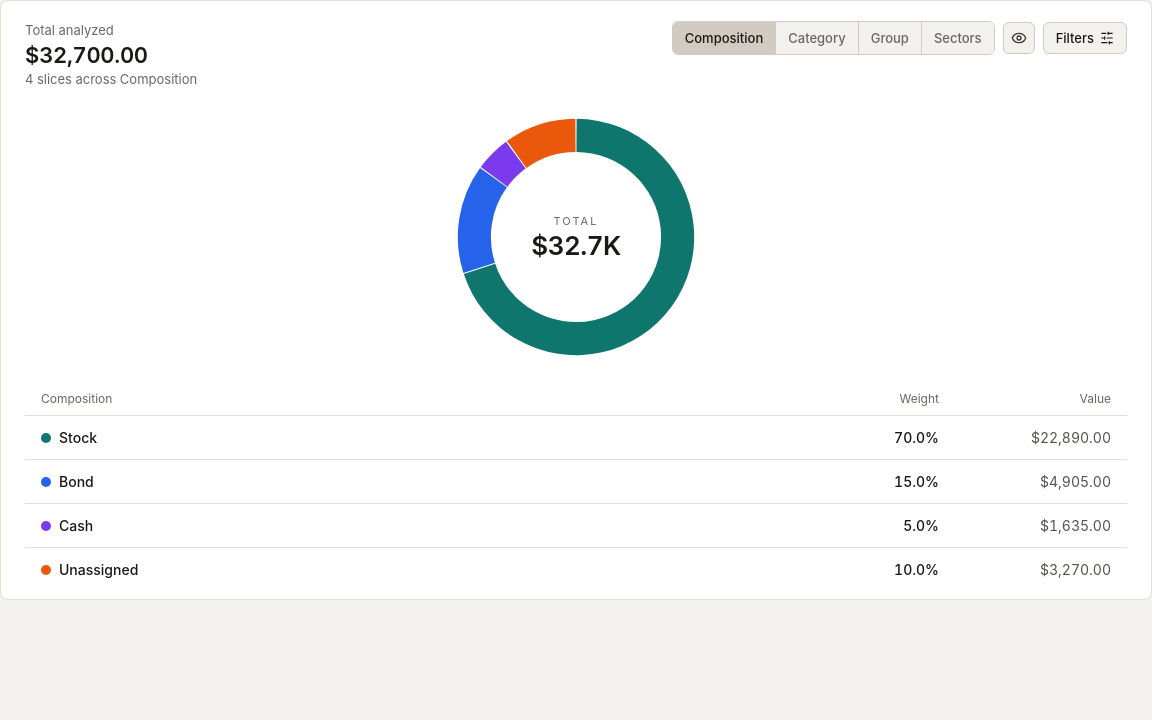
Test: PortfolioCard › clears the selection and collapses when the selected slice is clicked again
Click the button "Stock 70.0% $22,890.00" at (78, 437), box [25,415,1127,459]
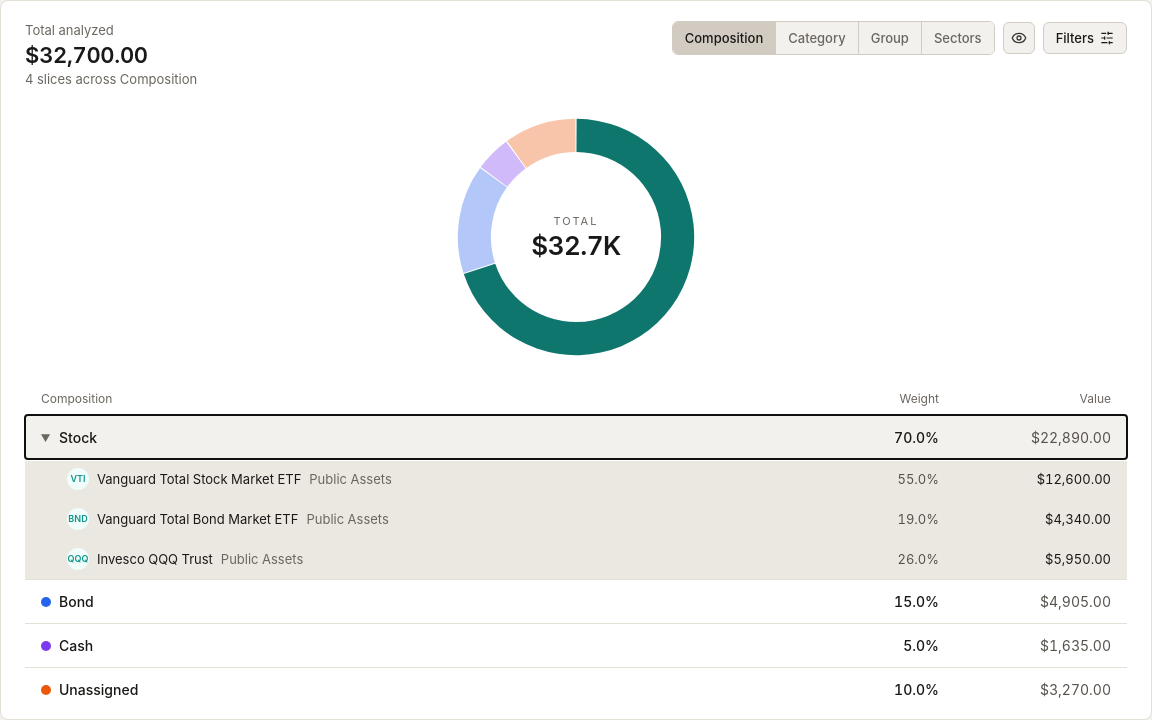
Check: the button "▶ Stock 70.0% $22,890.00" is expanded
Click the button "▶ Stock 70.0% $22,890.00" at (78, 437), box [25,415,1127,459]
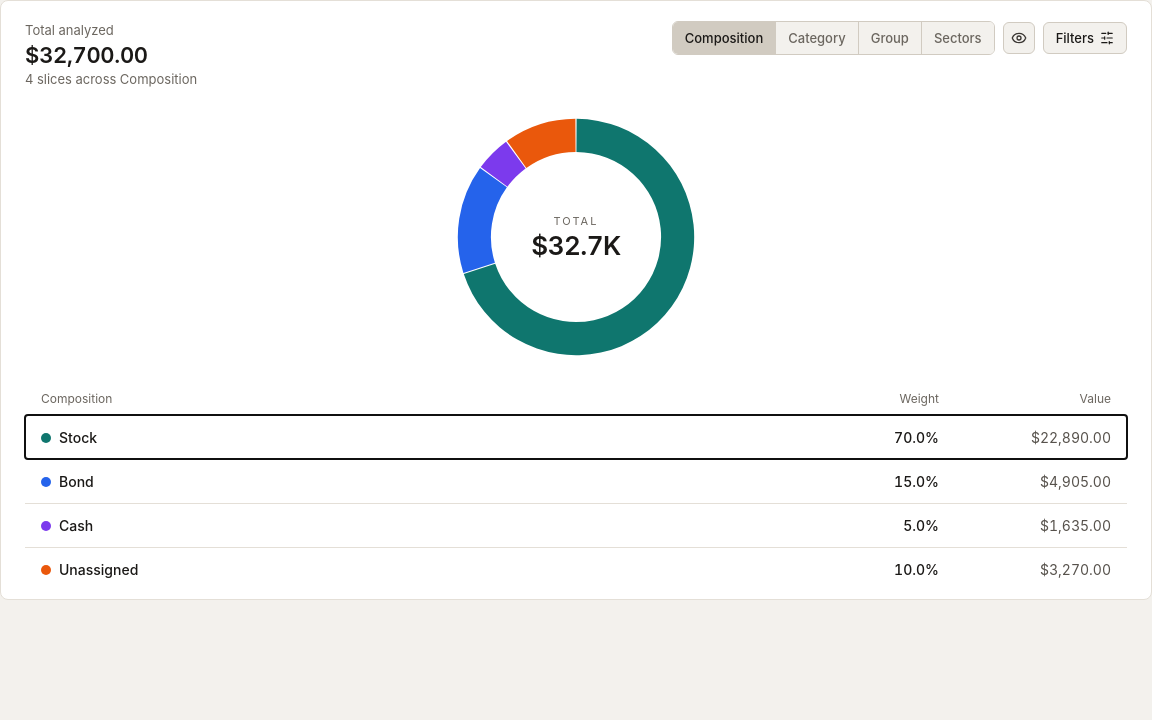
Check: the button "Stock 70.0% $22,890.00" is collapsed, box [25,415,1127,459]
